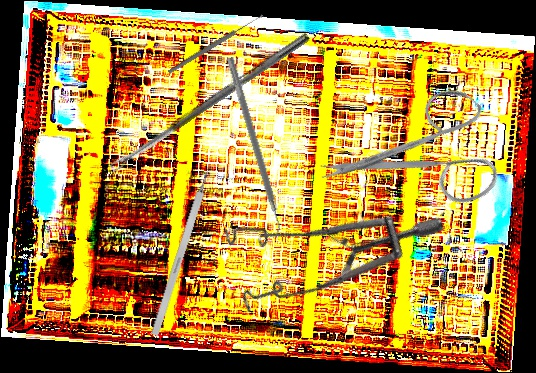Hook Surgical: (150, 158, 216, 337)
Iris Scissors: (314, 51, 528, 267)
Spatula Surgical: (218, 56, 288, 240)
Speculum: (197, 118, 448, 361)
Surgical Spoon: (108, 31, 311, 173), (167, 13, 265, 75)
